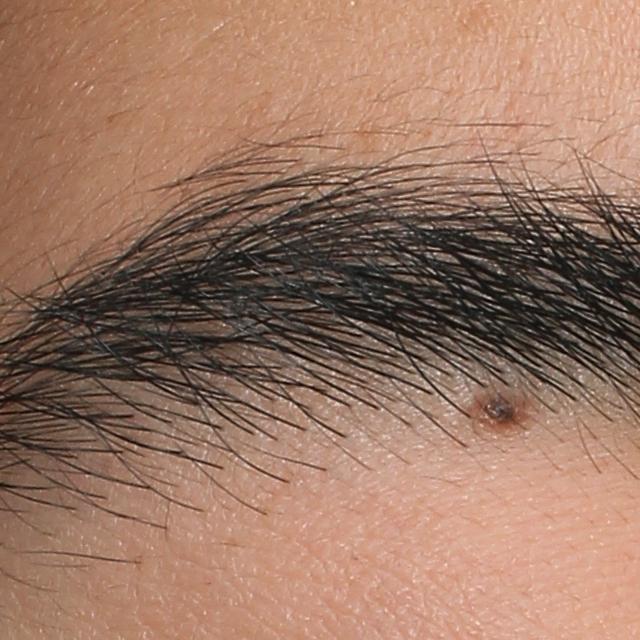nevus: (462, 384, 535, 439)
